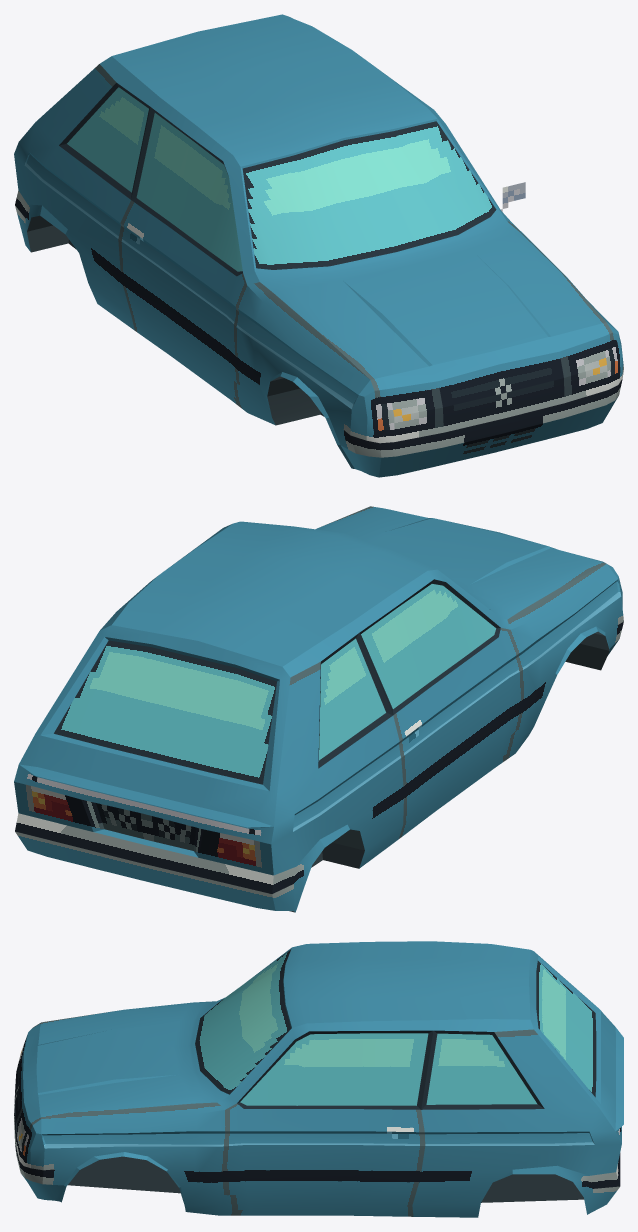
Rendered from citroenLn.glb.
3 renders of one model, top to bottom at view 1: azimuth 30°, elevation 25°; view 2: azimuth 150°, elevation 25°; view 3: azimuth 270°, elevation 25°, orthographic. The views are drawn at different scales.
Parts seen in each view (by area): view 1: BodyCitroenLn; view 2: BodyCitroenLn; view 3: BodyCitroenLn.
Part boxes in pixels (left/top/right/bottom): BodyCitroenLn: left=14, top=14, right=623, bottom=477; BodyCitroenLn: left=14, top=506, right=623, bottom=912; BodyCitroenLn: left=14, top=941, right=623, bottom=1217.
Size of the model in its own units: 1.67 by 1.16 by 3.38.
1 material, 1 textured.
